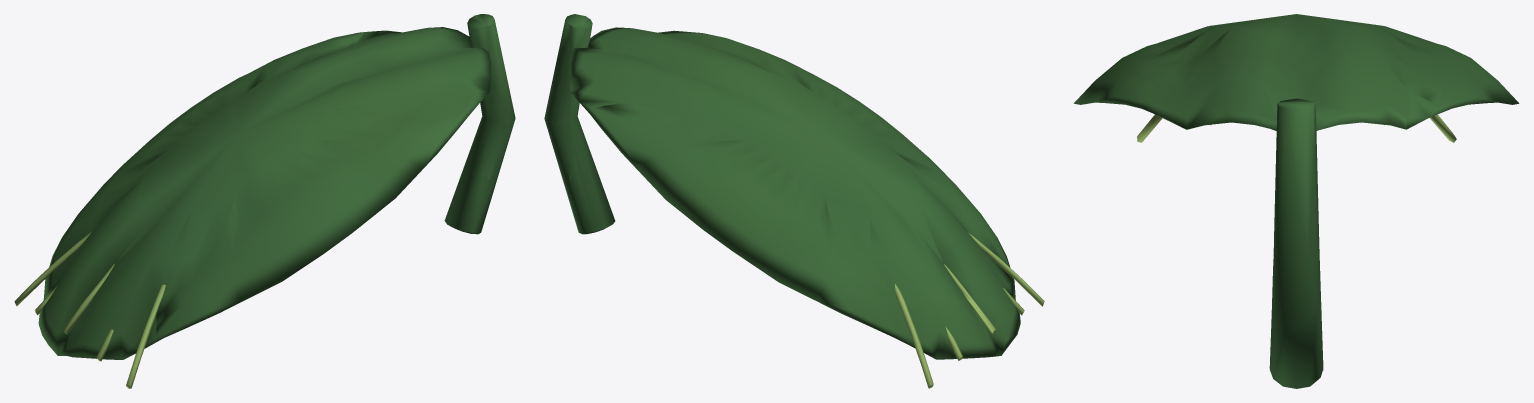
Rendered from mire_hosta_leaf_lod1.glb.
The picture shows the model from 3 angles, left to right: view 1: azimuth 30°, elevation 25°; view 2: azimuth 150°, elevation 25°; view 3: azimuth 270°, elevation 25°; orthographic projection. The views are drawn at different scales.
Parts seen in each view (by area): view 1: mire_hosta_leaf.001; view 2: mire_hosta_leaf.001; view 3: mire_hosta_leaf.001.
Boxes of the visible parts, bbox=[...] form: mire_hosta_leaf.001: bbox=[14, 14, 515, 388]; mire_hosta_leaf.001: bbox=[544, 14, 1044, 388]; mire_hosta_leaf.001: bbox=[1074, 14, 1519, 388].
Bounding box in the file's own units: 37.84 × 18.5 × 23.14.
